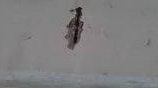Exposed reinforcement: (72, 7, 81, 44)
Spalling: (64, 6, 84, 51)
